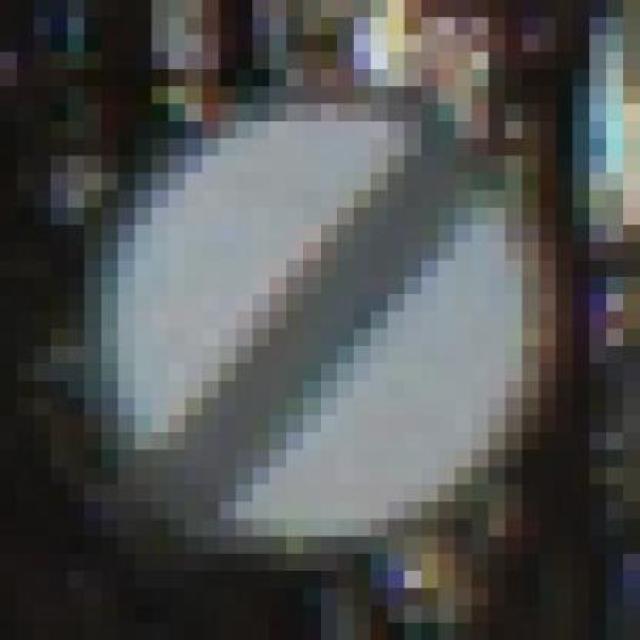End of all speed and passing limits: (67, 86, 573, 554)
